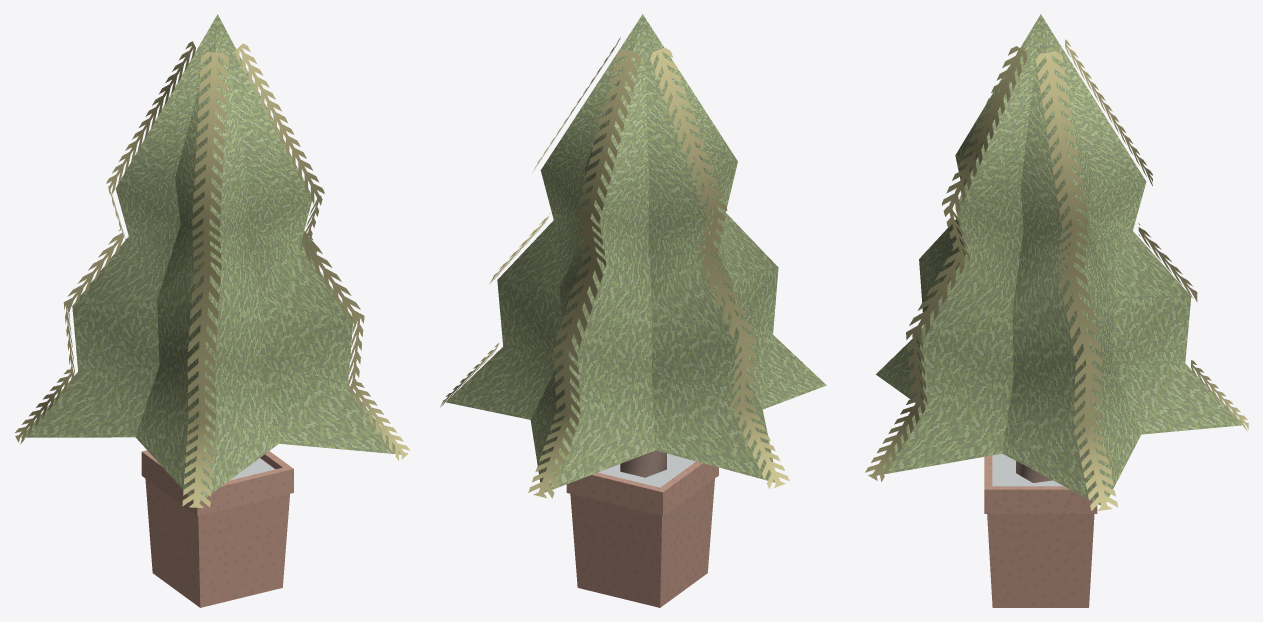
Rendered from 006d_X_mas_Tree.glb.
3 views of the same model, side by side, from view 1: azimuth 30°, elevation 25°; view 2: azimuth 150°, elevation 25°; view 3: azimuth 270°, elevation 25° (orthographic).
Visible parts, largest first — view 1: part_0; view 2: part_0; view 3: part_0.
Part boxes in pixels (x1=…): part_0: x1=15, y1=14, x2=410, y2=607; part_0: x1=440, y1=14, x2=826, y2=607; part_0: x1=865, y1=14, x2=1248, y2=607.
Bounding box in the file's own units: 0.7517 × 1.18 × 0.7149.
1 material, 1 textured.
